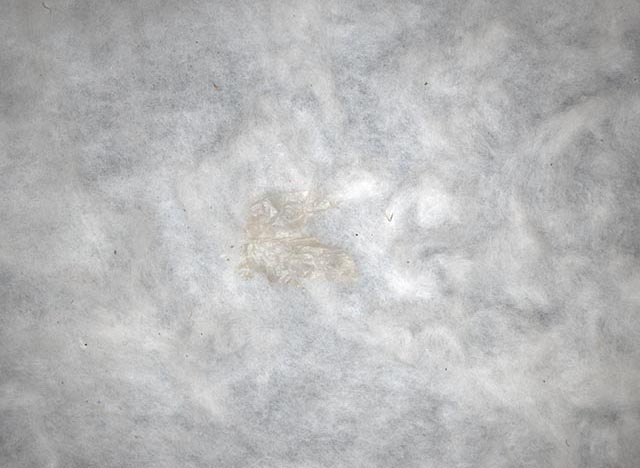plastic film: (240, 189, 357, 288)
